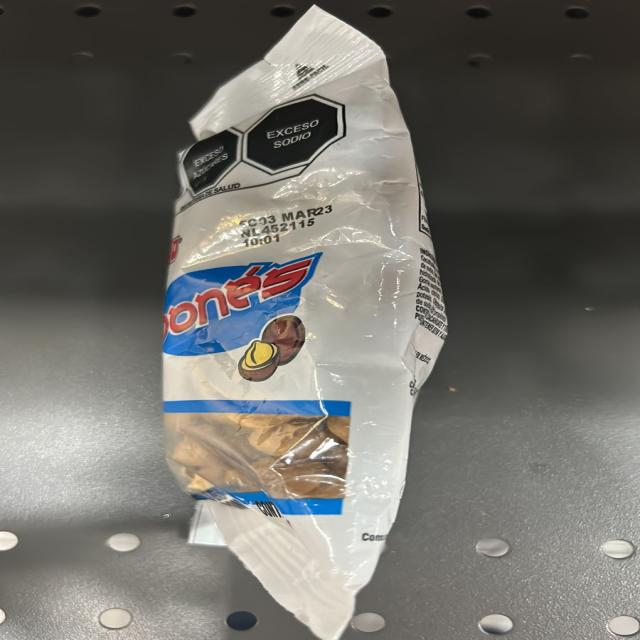leoCacahuates: (183, 83, 398, 548)
